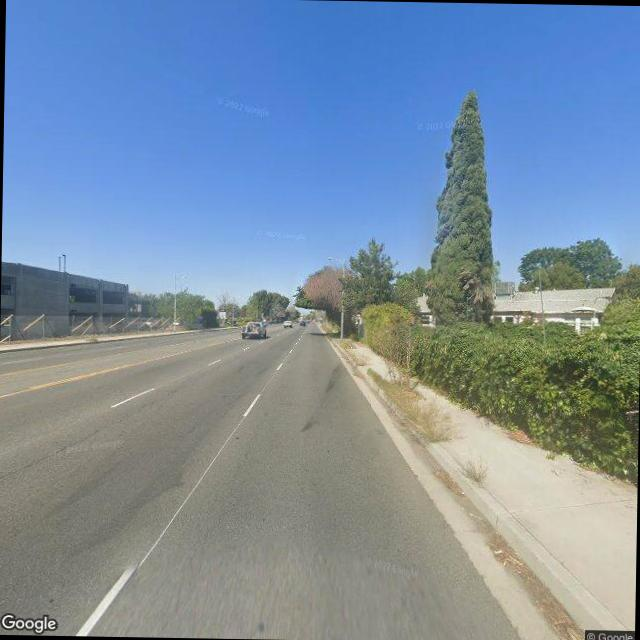pothole: (0, 405, 146, 477)
